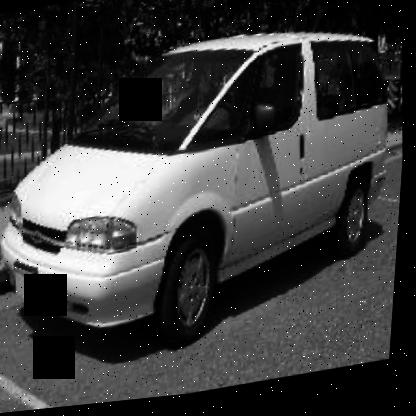not_emergency: (0, 3, 413, 360)
